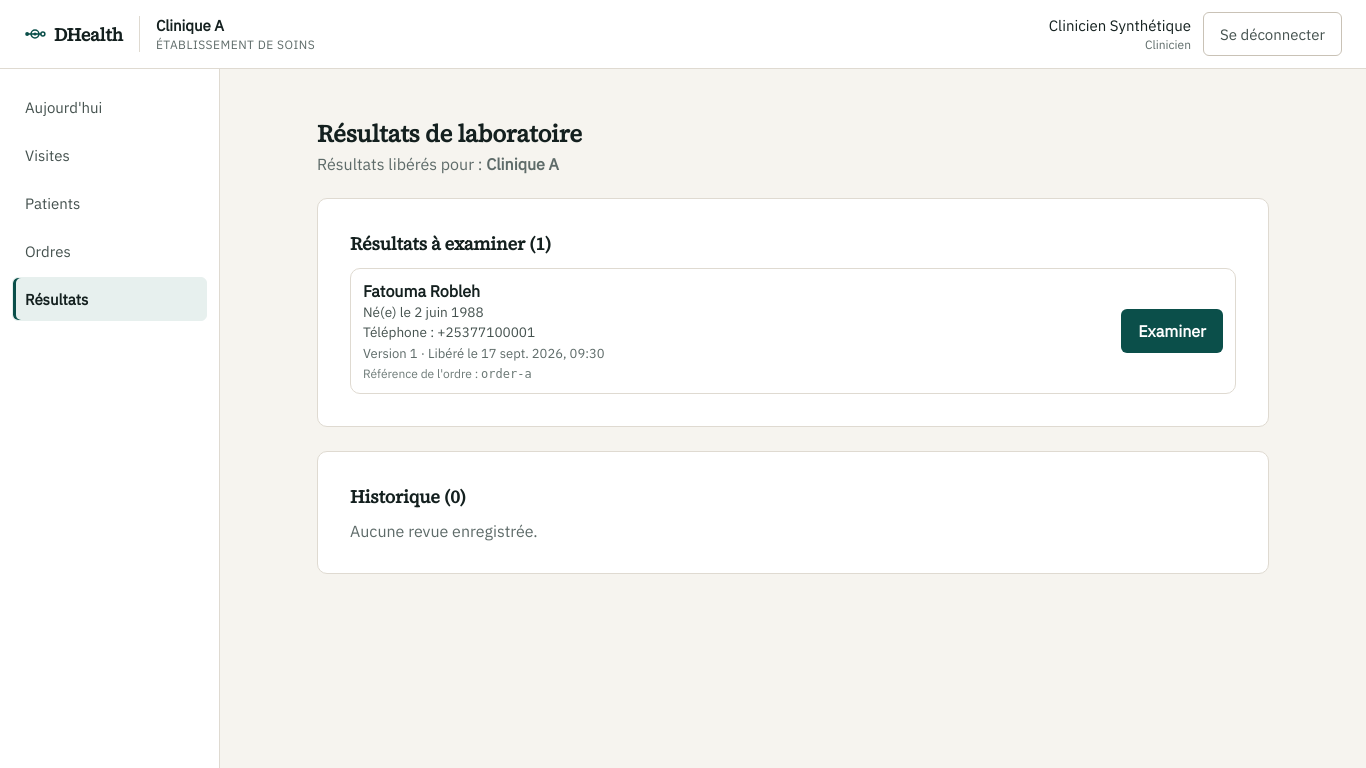
Test: ClinicResultsPage › UI-CUR4: a single released version is named current and carries no replacement warning
This screenshot has width=1366, height=768.
Click the button "Examiner": coordinates (1172, 331) [1121,309,1223,353]
(page scrolled)
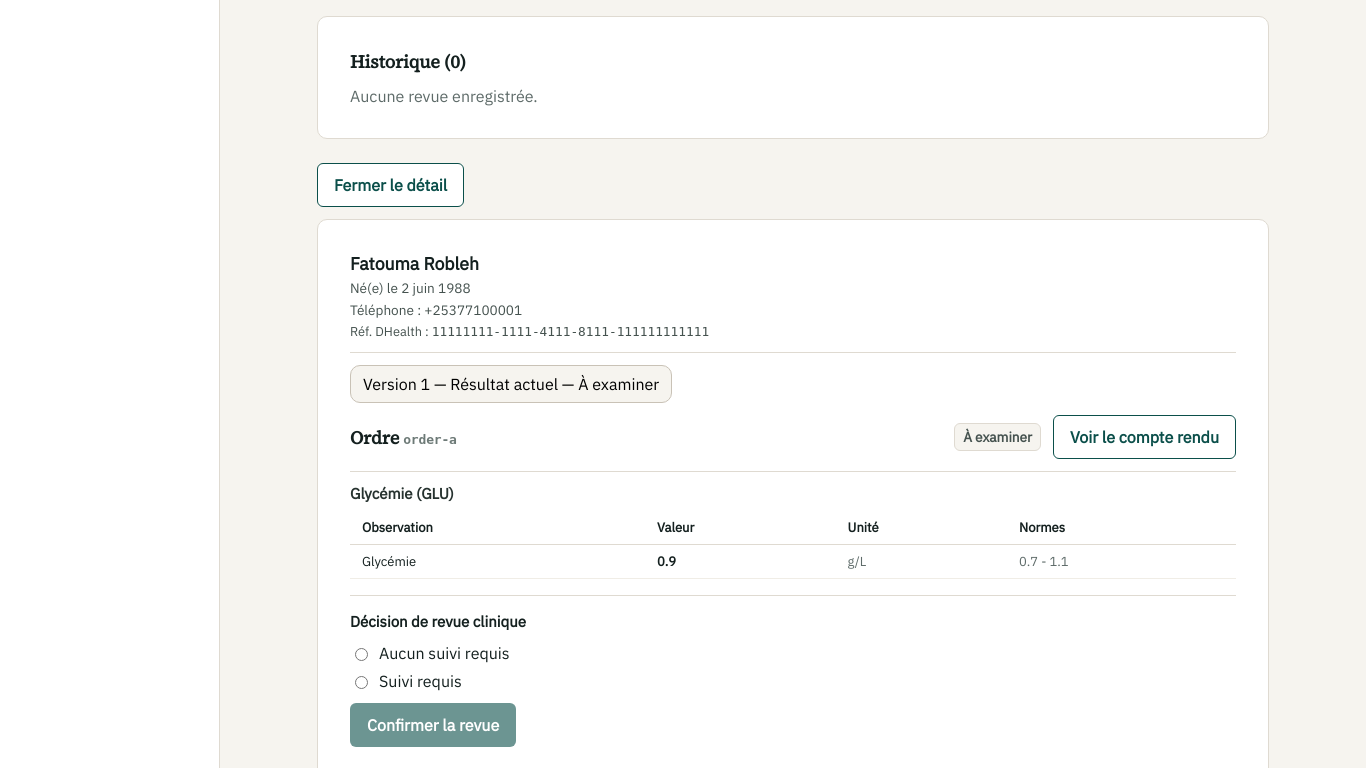
Now the text "0.9" is shown, box [645,544,836,578]
Now the tab "Version 1 — Résultat actuel — À examiner" is shown, box [350,365,672,403]
